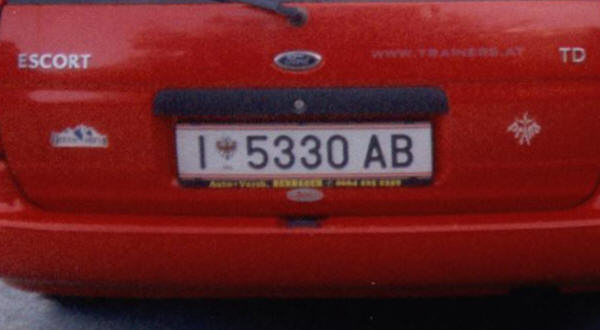license_plate: (175, 122, 431, 178)
